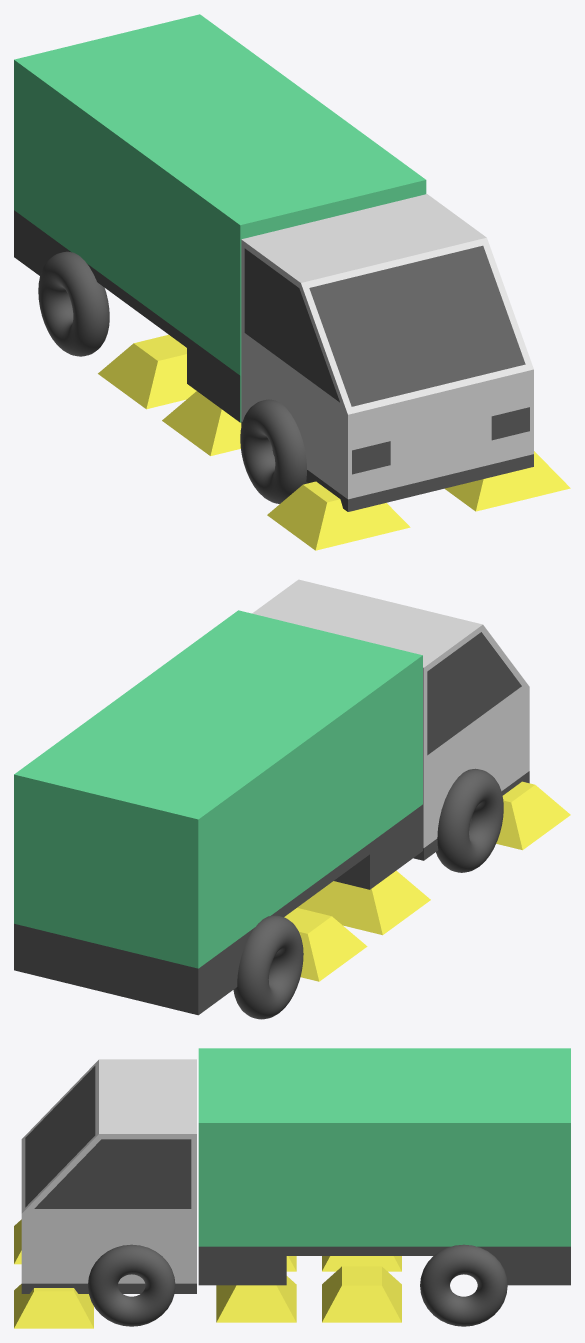
Rendered from clearCar.gltf.
3 renders of one model, top to bottom at view 1: azimuth 30°, elevation 25°; view 2: azimuth 150°, elevation 25°; view 3: azimuth 270°, elevation 25°, orthographic. The views are drawn at different scales.
Visible parts, largest first — view 1: ???.1, ???_4, ???, ???_3_1, ???_2_1, ???_3, ???_2; view 2: ???.1, ???_4, ???_3_1, ???_2_1, ???_2, ???_3, ???; view 3: ???.1, ???_4, ???_1_1, ???_0_1, ???_1, ???, ???_0, ???_3.
Part boxes in pixels (x1,y1,x2,y2): ???.1: (14, 14, 426, 422); ???_4: (241, 194, 533, 511); ???: (267, 451, 570, 550); ???_3_1: (38, 251, 109, 356); ???_2_1: (240, 399, 307, 503); ???_3: (98, 334, 196, 409); ???_2: (162, 391, 241, 456); ???.1: (14, 610, 422, 1015); ???_4: (252, 579, 529, 860); ???_3_1: (233, 915, 303, 1019); ???_2_1: (436, 768, 503, 872); ???_2: (297, 870, 430, 935); ???_3: (284, 908, 367, 981); ???: (496, 781, 570, 850); ???.1: (198, 1048, 570, 1285); ???_4: (21, 1059, 196, 1293); ???_1_1: (420, 1244, 507, 1326); ???_0_1: (88, 1244, 175, 1326); ???_1: (322, 1266, 401, 1322); ???: (14, 1219, 93, 1328); ???_0: (216, 1276, 296, 1322); ???_3: (322, 1256, 401, 1271).
Size of the model in its own units: 275 by 251 by 631.
